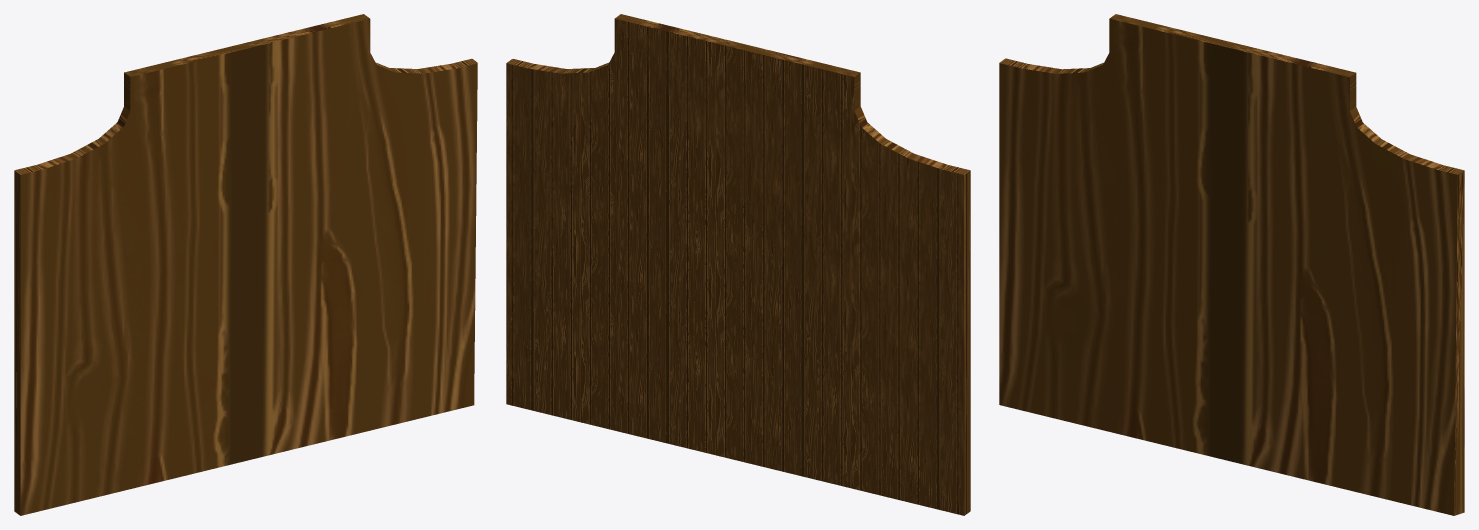
3 renders of one model, left to right at view 1: azimuth 30°, elevation 25°; view 2: azimuth 150°, elevation 25°; view 3: azimuth 330°, elevation 25°, orthographic.
Parts seen in each view (by area): view 1: Cube.932; view 2: Cube.932; view 3: Cube.932.
Boxes of the visible parts, bbox=[...] form: Cube.932: bbox=[14, 14, 477, 515]; Cube.932: bbox=[506, 14, 970, 515]; Cube.932: bbox=[999, 14, 1464, 515].
Bounding box in the file's own units: 913 × 785 × 21.85.
Materials: 1 (1 with a texture image).
